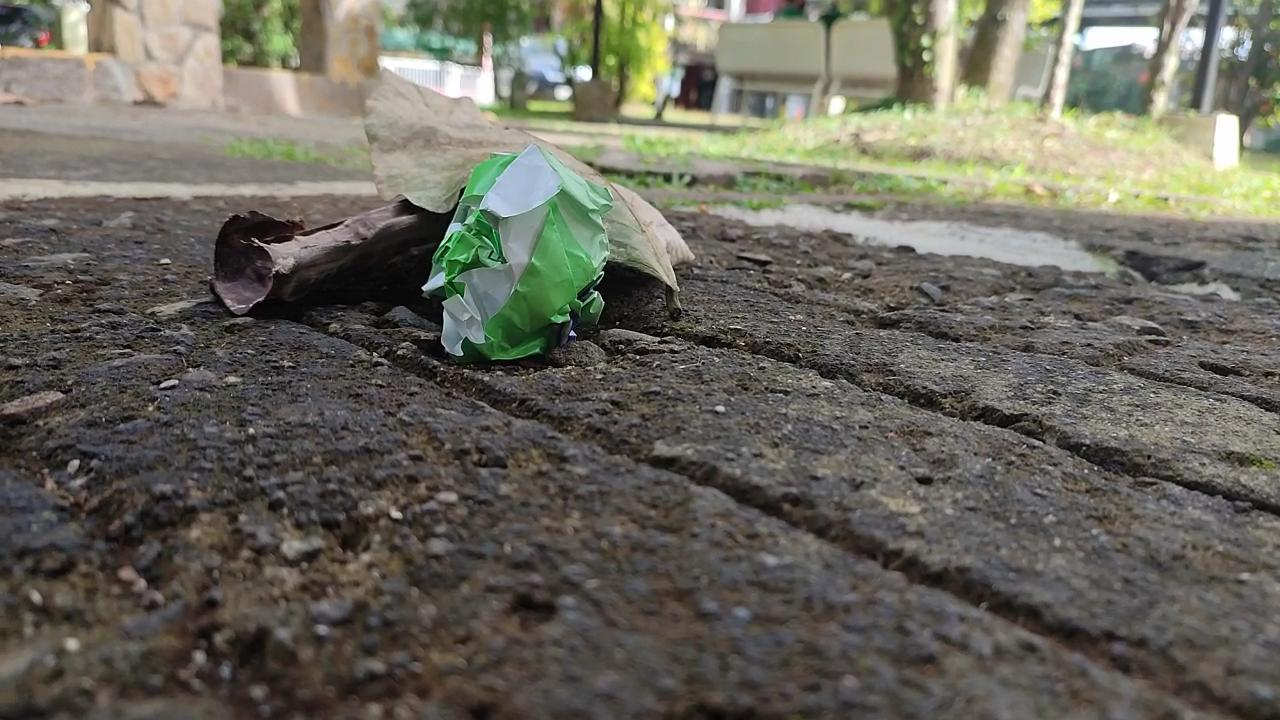Paper: (433, 137, 615, 369)
